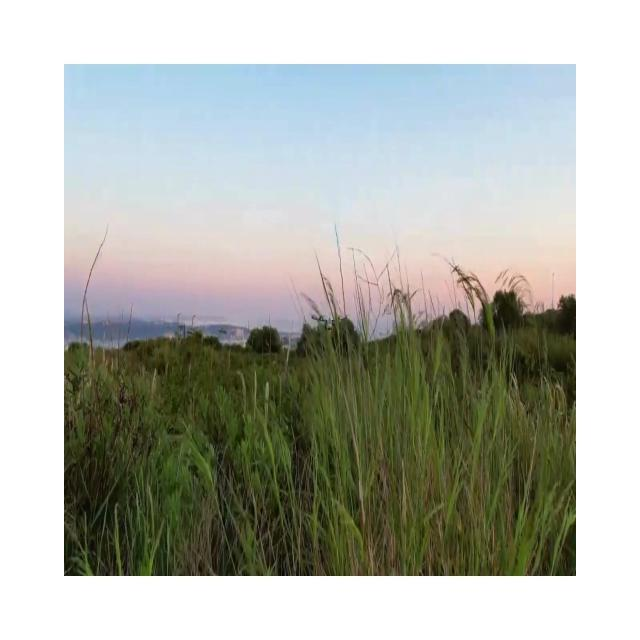drone: (312, 312, 343, 333)
